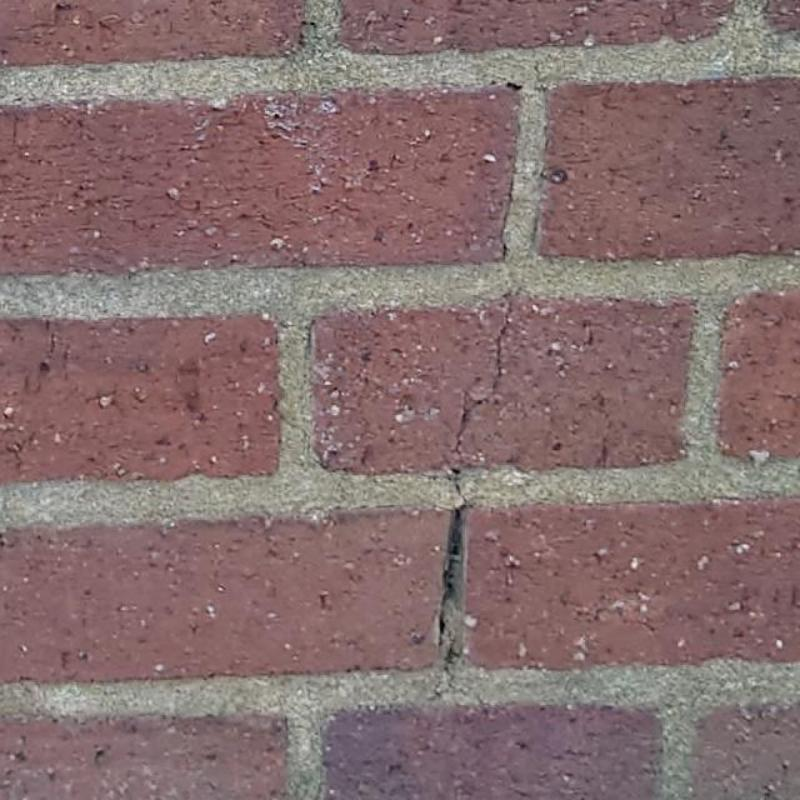pothole: (437, 303, 513, 654)
